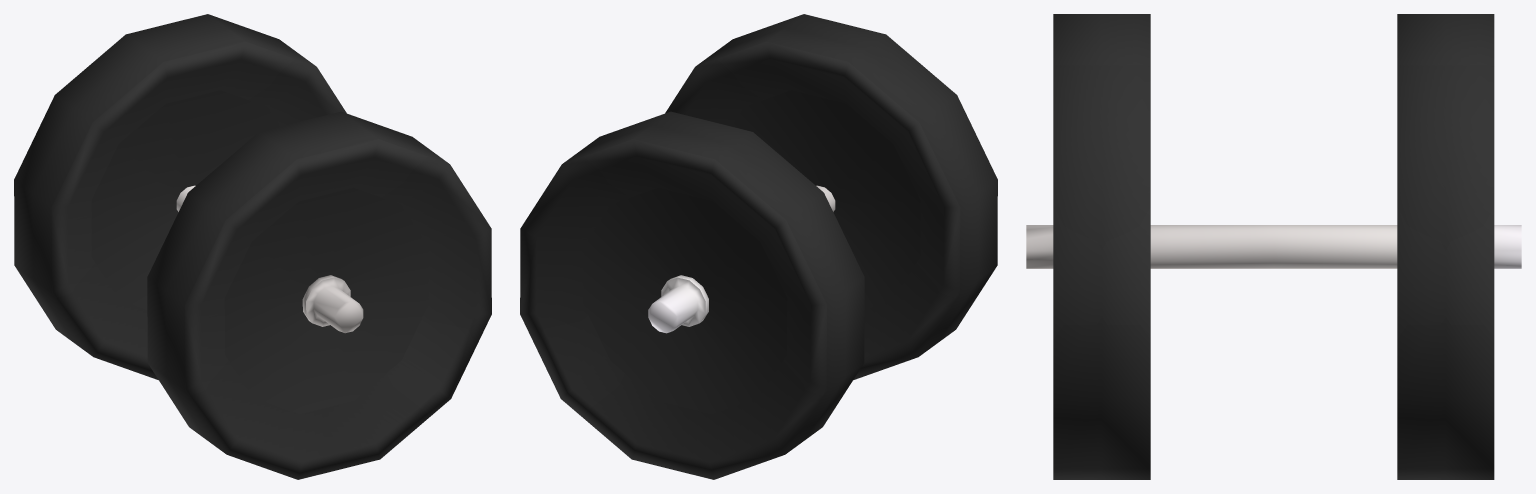
The model's file is DumbellLarge.glb.
The picture shows the model from 3 angles, left to right: view 1: azimuth 30°, elevation 25°; view 2: azimuth 150°, elevation 25°; view 3: azimuth 270°, elevation 25°; orthographic projection. The views are drawn at different scales.
Visible parts, largest first — view 1: DumbellLarge; view 2: DumbellLarge; view 3: DumbellLarge.
Part boxes in pixels (bbox=[...]): DumbellLarge: bbox=[14, 14, 491, 479]; DumbellLarge: bbox=[520, 14, 997, 479]; DumbellLarge: bbox=[1026, 14, 1521, 479].
Bounding box in the file's own units: 0.2345 × 0.2345 × 0.2542.
Materials: 2 (2 with a texture image).
